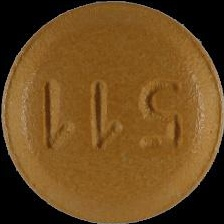62756-511: (0, 0, 224, 224)
